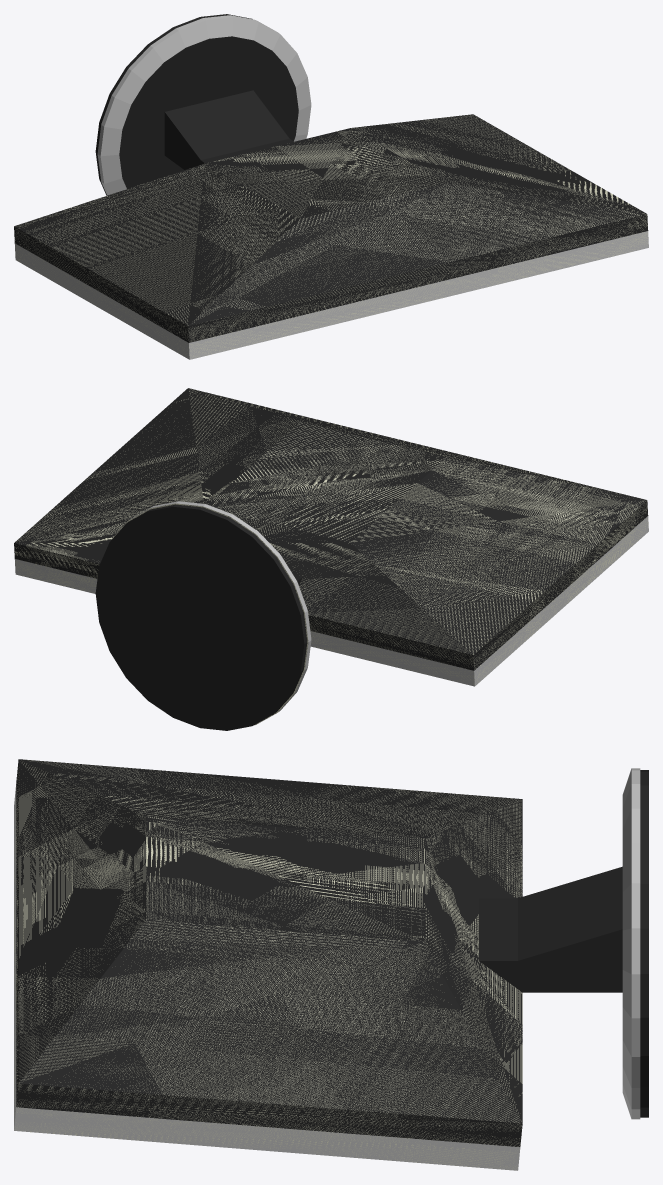
The picture shows the model from 3 angles, top to bottom: view 1: azimuth 30°, elevation 25°; view 2: azimuth 150°, elevation 25°; view 3: azimuth 270°, elevation 25°; orthographic projection. The views are drawn at different scales.
Visible parts, largest first — view 1: samsung syncmaster nw tft monitor; view 2: samsung syncmaster nw tft monitor; view 3: samsung syncmaster nw tft monitor.
Boxes of the visible parts, x1,y1,x2,y2 form: samsung syncmaster nw tft monitor: (14, 14, 648, 359); samsung syncmaster nw tft monitor: (14, 388, 648, 730); samsung syncmaster nw tft monitor: (14, 759, 648, 1170).
Size of the model in its own units: 17.32 by 7.95 by 14.33.
